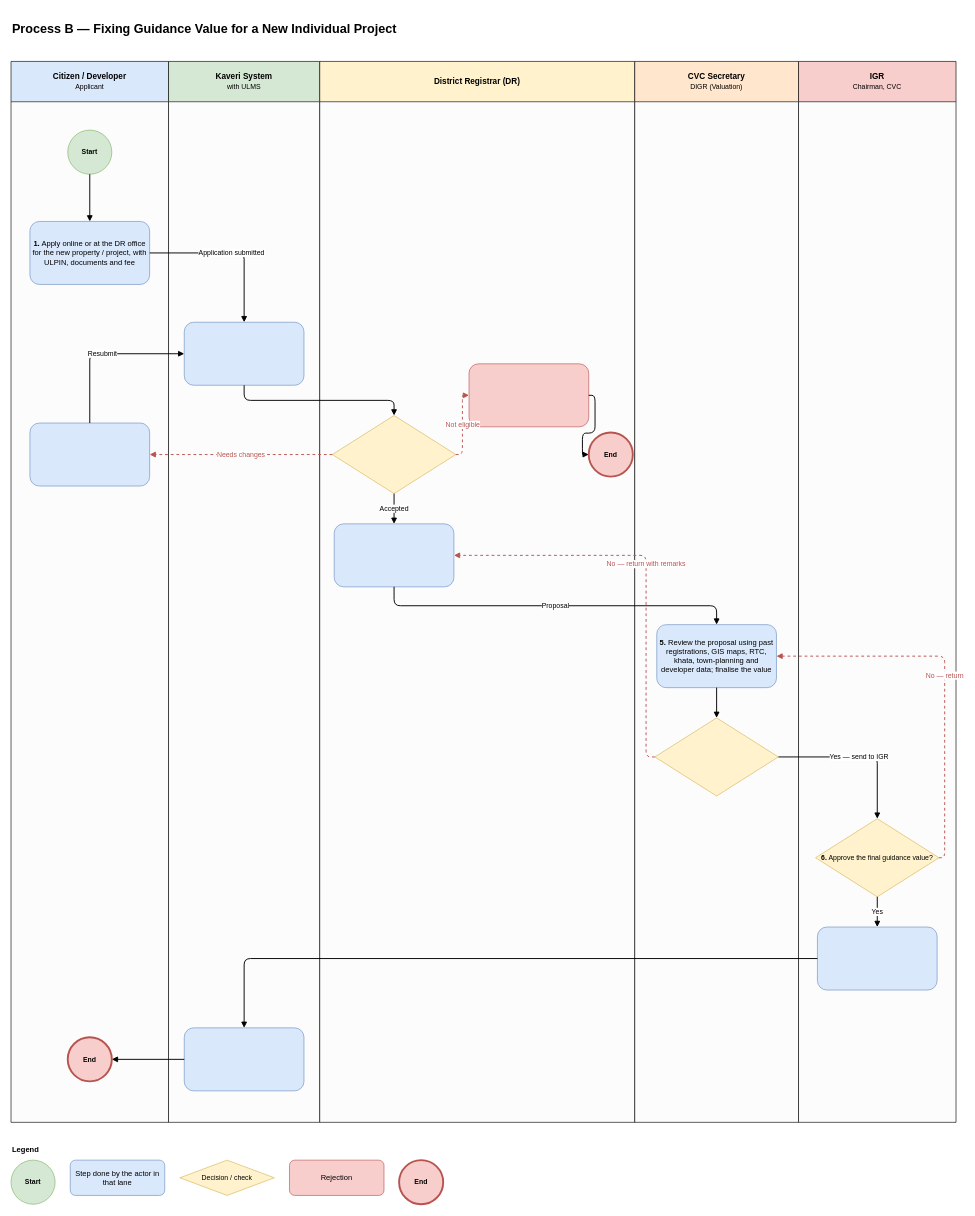
Image size: 975x1216. Some labels were removed from this diagram. Each missing label, with the centre of its shape:
2. Fetch the property boundary (map) from ULMS using the ULPIN: point (244, 353)
3. Check application: complete and eligible under Sec. 45-B?: point (394, 454)
4. Visit the site (spot inspection) and propose the guidance value: point (394, 555)
7. Approve and fix the date from which the rate applies: point (877, 958)
8. Add the approved rate to Kaveri from that date and inform the applicant: point (244, 1059)
Fix the missing items and resubmit: point (89, 454)
Proposal acceptable?: point (716, 756)
Reject with written reasons and inform the applicant: point (528, 395)
